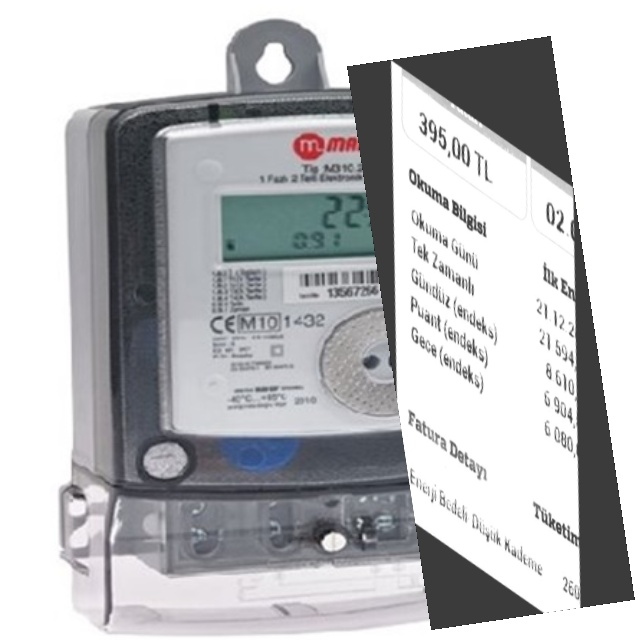electricity-bill: (346, 35, 634, 629)
